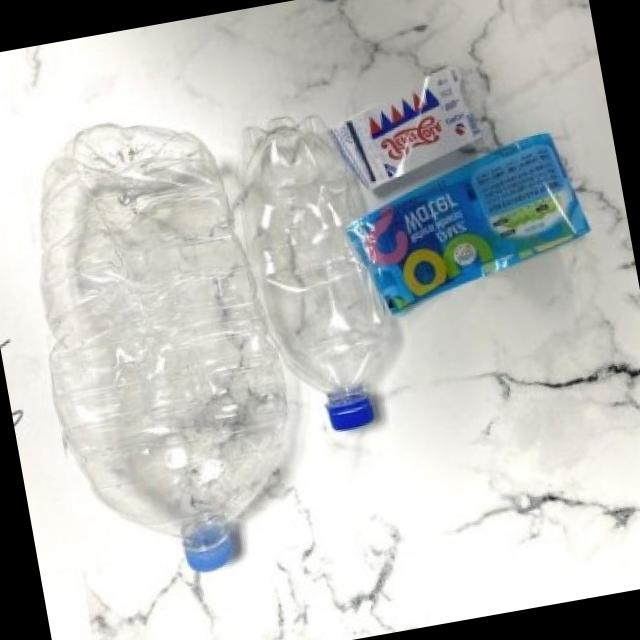plastic_bottle: (8, 105, 302, 592), (228, 110, 416, 442)
